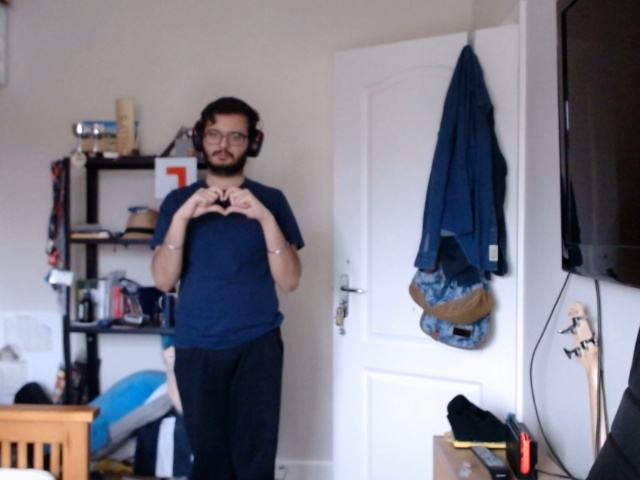Heart: (201, 182, 253, 223)
